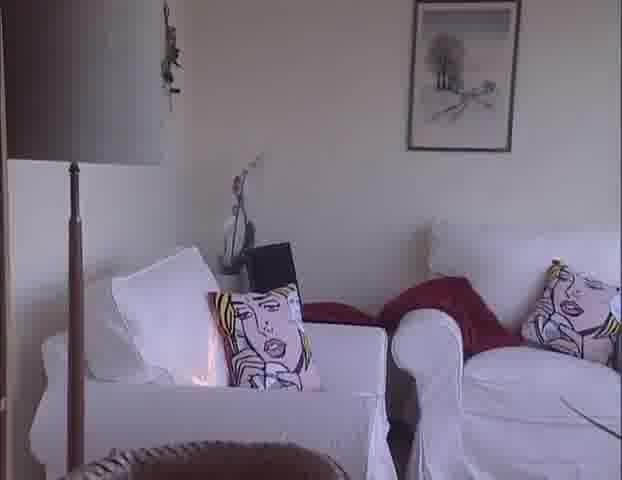fire: (189, 328, 233, 403)
